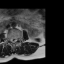CCS_normal: (12, 36, 14, 45)
LFS_normal: (16, 36, 19, 42)
LLS_normal: (14, 36, 16, 44)
RFS_normal: (8, 36, 10, 43)
RLS_normal: (10, 36, 12, 44)
